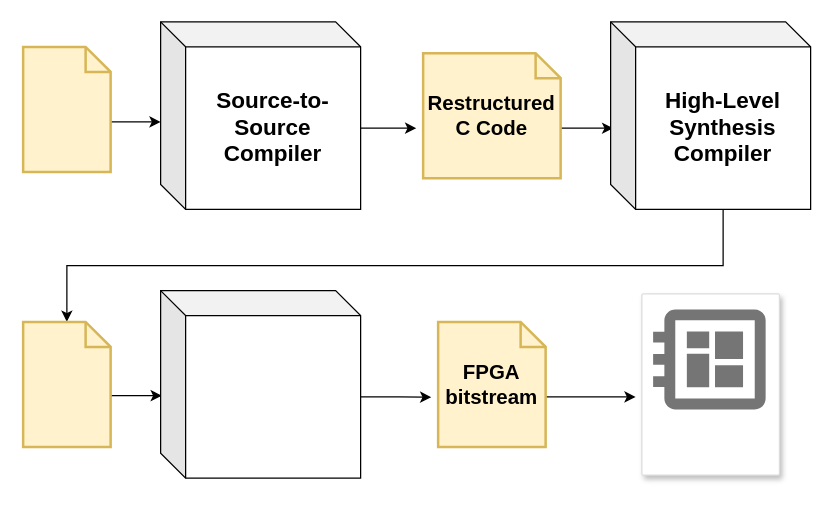
Image size: 833x506. Some labels were removed from this diagram. Here are the shapes that lost their labels. From the top down, the centre of each, then its label:
At point (66, 108): "C code".
At point (66, 384): "VHDL / Verilog code".
At point (260, 383): "HDL Compiler".
